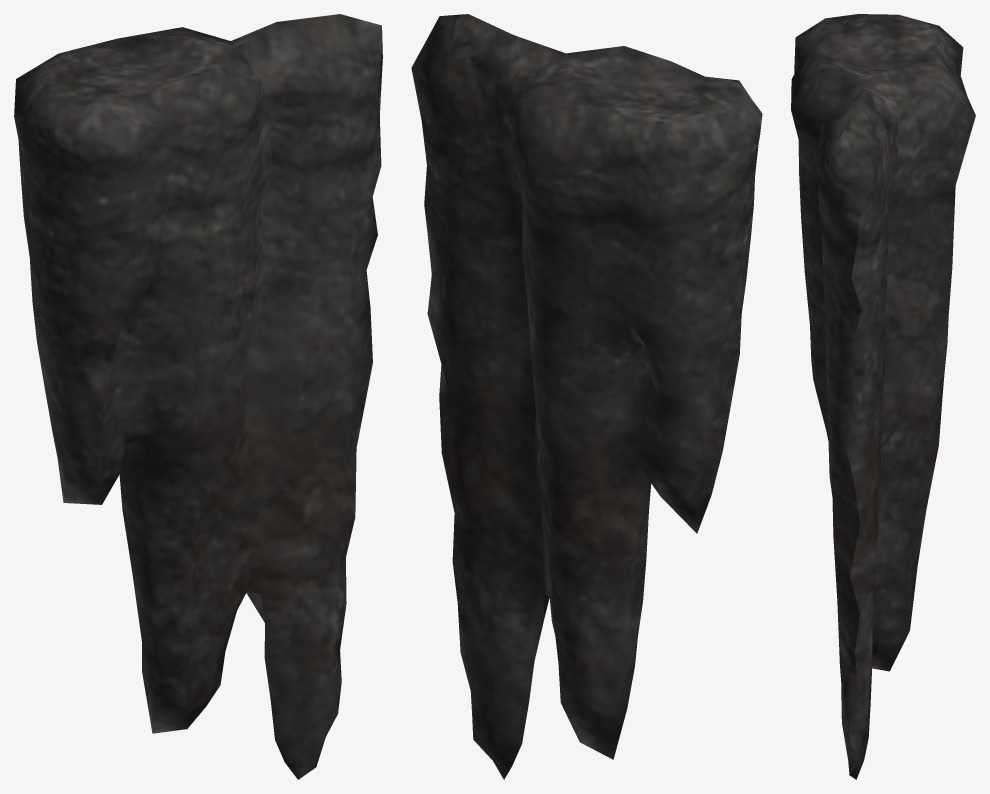
The model's file is CaveRockPack1_High4.fbx.
3 renders of one model, left to right at view 1: azimuth 30°, elevation 25°; view 2: azimuth 150°, elevation 25°; view 3: azimuth 270°, elevation 25°, orthographic. The views are drawn at different scales.
Visible parts, largest first — view 1: CaveRockPack1_High4; view 2: CaveRockPack1_High4; view 3: CaveRockPack1_High4.
Part boxes in pixels (x1,y1,x2,y2): CaveRockPack1_High4: (14, 14, 382, 779); CaveRockPack1_High4: (411, 14, 762, 779); CaveRockPack1_High4: (791, 14, 975, 779).
Bounding box in the file's own units: 1026 × 2139 × 526.
